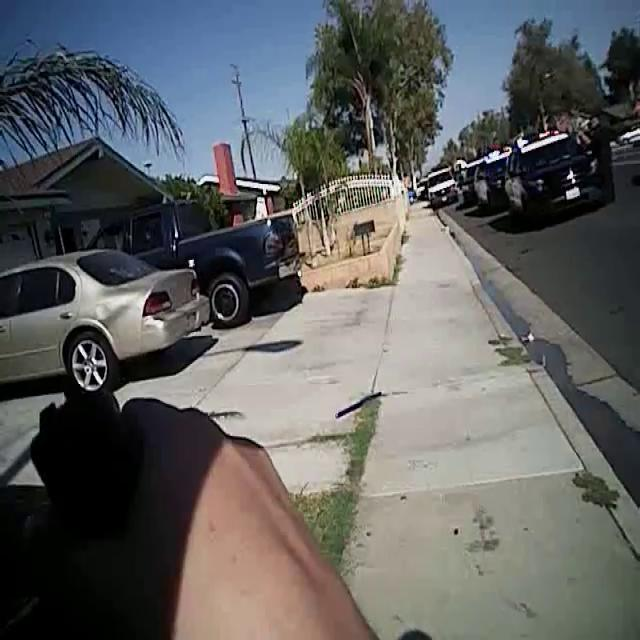gun: (9, 367, 195, 581)
